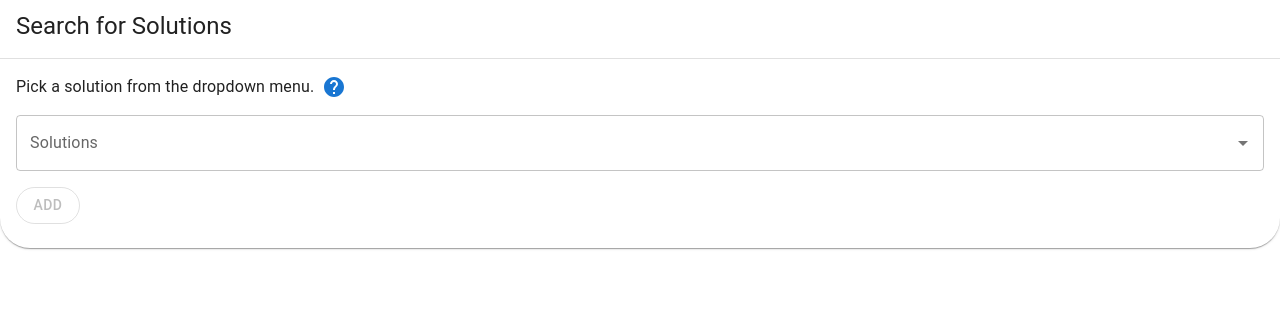
it: SolutionsList › displays selected item in select block and label block
This screenshot has width=1280, height=326.
Press the mouse on the dropdown labelled "Solutions": (625, 143) [25,124,1225,162]
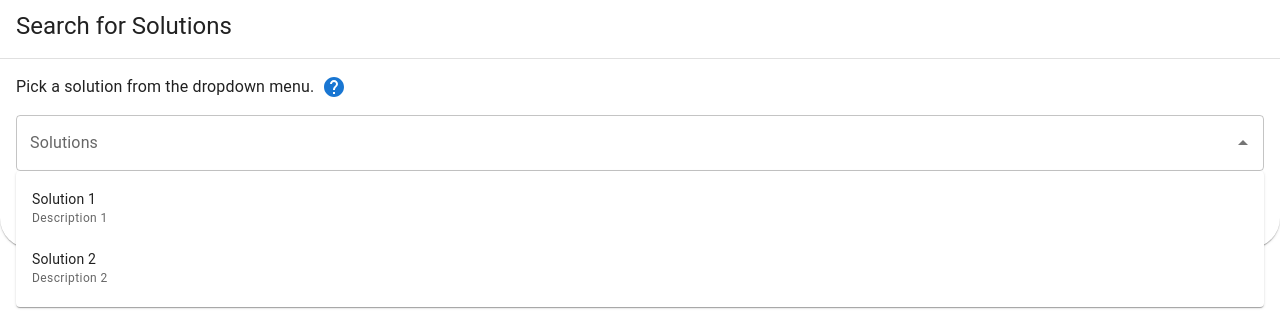
Click the text "Solution 1": (64, 199) [32,191,96,207]
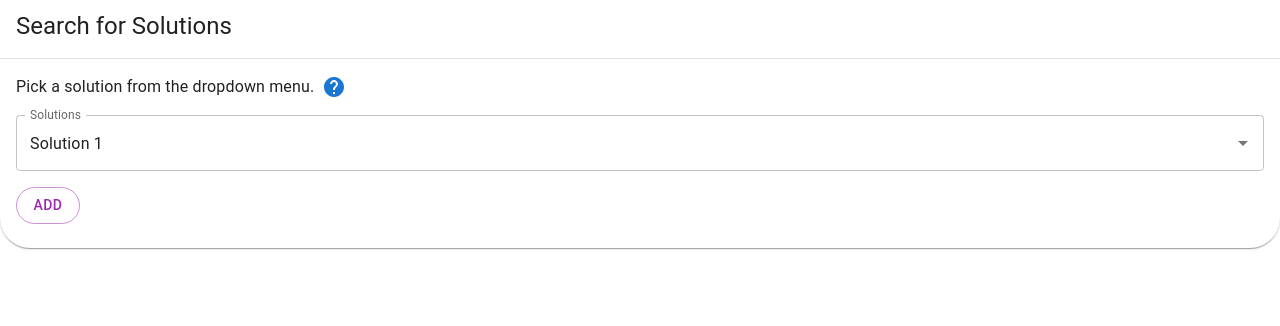
Expected: the dropdown with test id "solutions-select" holds "Solution 1", [25,124,1199,162]
